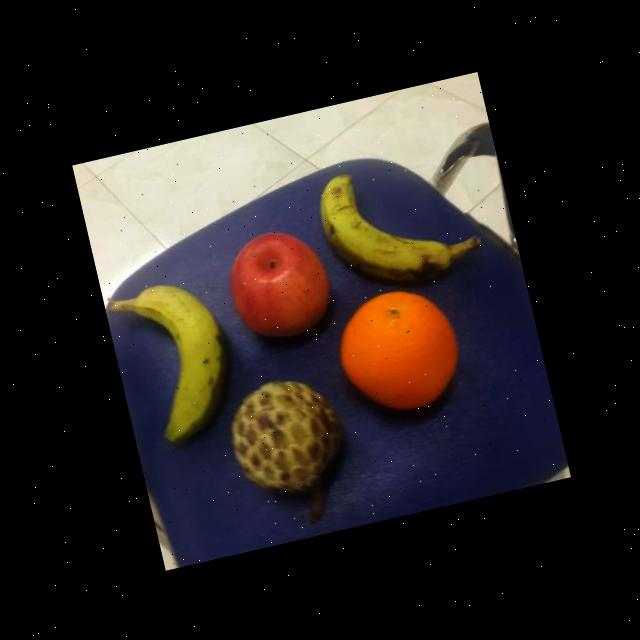Sakya fruit: (220, 366, 354, 498)
apple: (212, 218, 342, 350)
banana: (307, 150, 453, 301), (124, 272, 244, 448)
orange: (328, 276, 472, 424)
